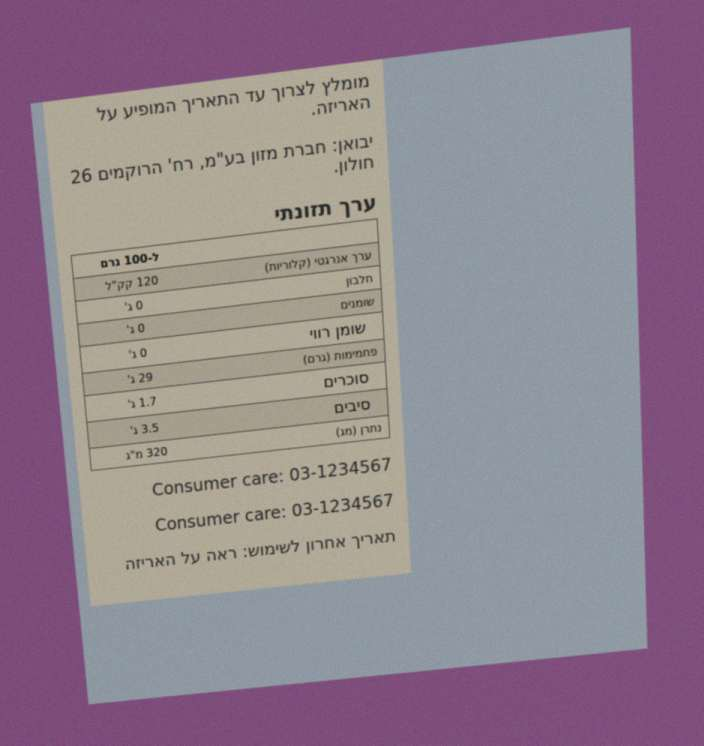carbs: (125, 368, 155, 388)
energy: (102, 271, 161, 296)
fat: (124, 319, 147, 339)
protein: (122, 296, 145, 316)
